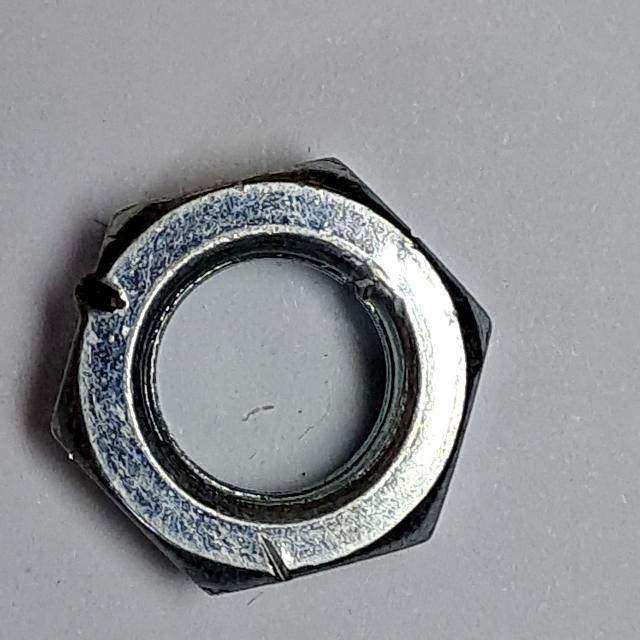Scratches: (38, 141, 505, 611)
